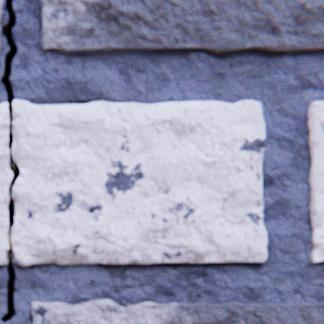brick: (39, 0, 323, 57), (30, 299, 323, 323), (307, 102, 323, 263), (0, 28, 2, 54), (0, 0, 2, 21)
broken_brick: (10, 100, 266, 266), (0, 103, 12, 264)
crack: (0, 0, 20, 322)
